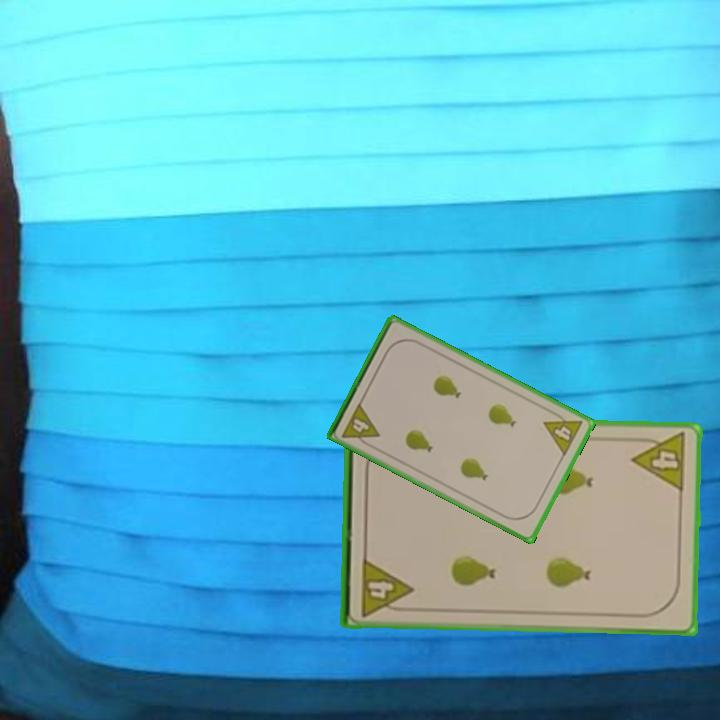4p: (629, 429, 689, 494), (357, 554, 415, 619), (540, 406, 586, 459), (338, 399, 382, 451)
